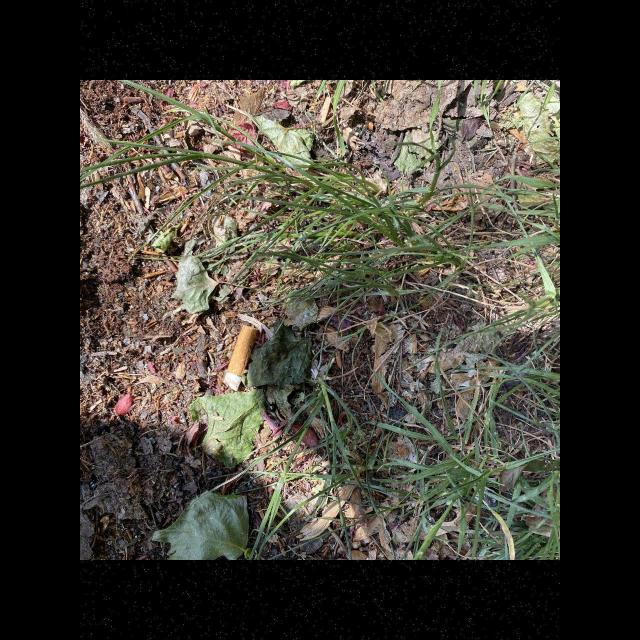cigarette: (223, 324, 260, 392)
